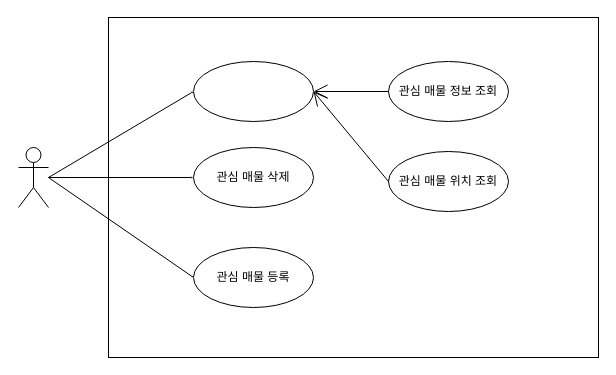
The diagram is 616 pixels wide and 375 high, and some of its shapes have lost their labels. The box of each missing label's shape, as (x1, y1, x2, y2) in pixels:
관심 매물 조회: (192, 60, 314, 122)
사용자: (18, 146, 48, 208)
